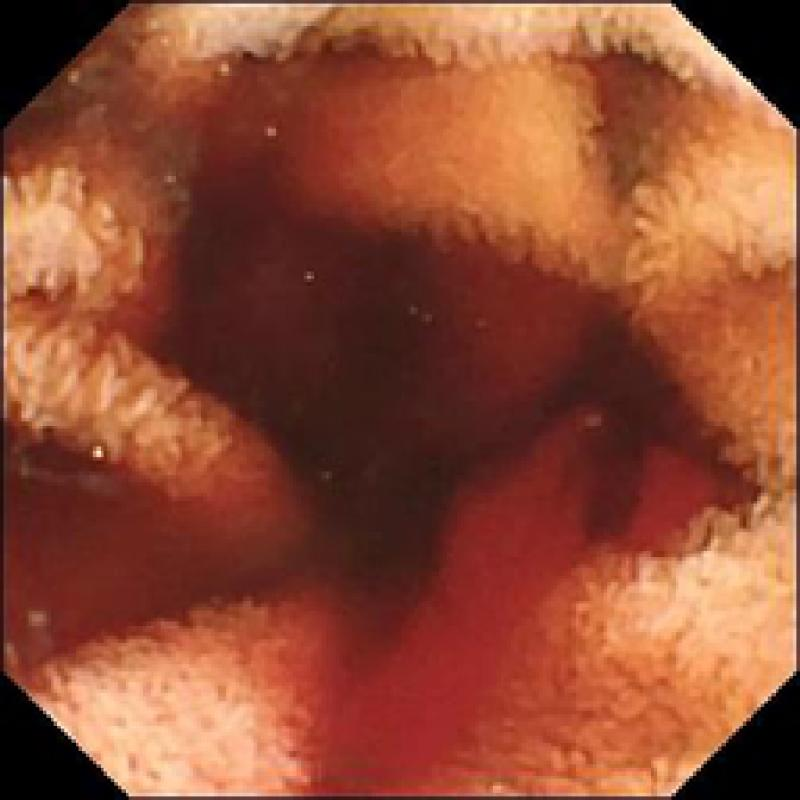bleeding: (292, 414, 728, 800), (10, 415, 272, 677), (457, 253, 579, 386)
